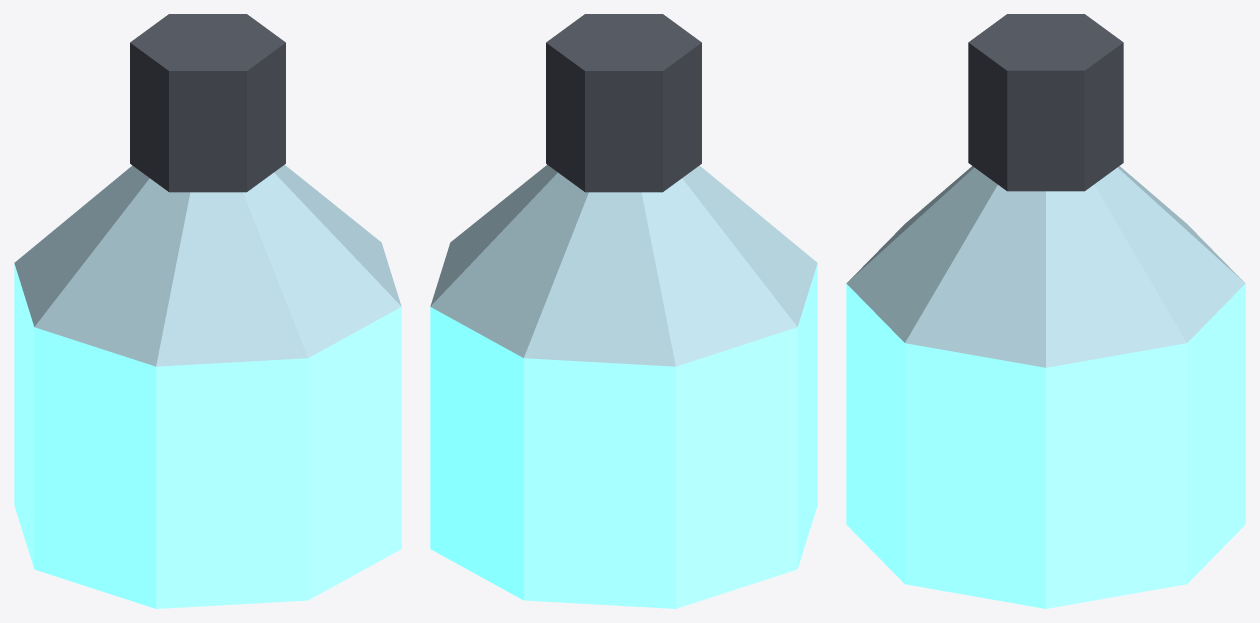
The model's file is pacote_pesquisa.glb.
The picture shows the model from 3 angles, left to right: view 1: azimuth 30°, elevation 25°; view 2: azimuth 150°, elevation 25°; view 3: azimuth 270°, elevation 25°; orthographic projection.
Visible parts, largest first — view 1: pacote_pesquisa; view 2: pacote_pesquisa; view 3: pacote_pesquisa.
Boxes of the visible parts, box(x1,y1,x2,y2) form: pacote_pesquisa: box(14, 14, 401, 608); pacote_pesquisa: box(430, 14, 817, 608); pacote_pesquisa: box(846, 14, 1245, 608).
Bounding box in the file's own units: 0.18 × 0.24 × 0.18.
